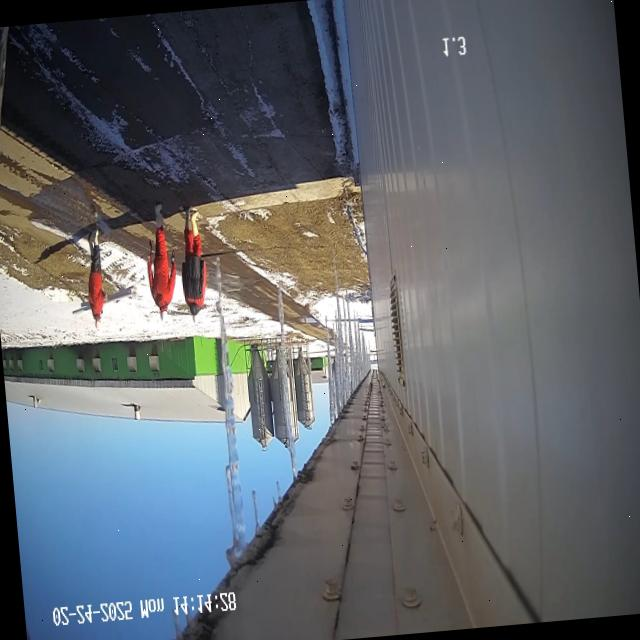Red uniform: (146, 202, 176, 319), (181, 207, 206, 317), (88, 228, 106, 328)
